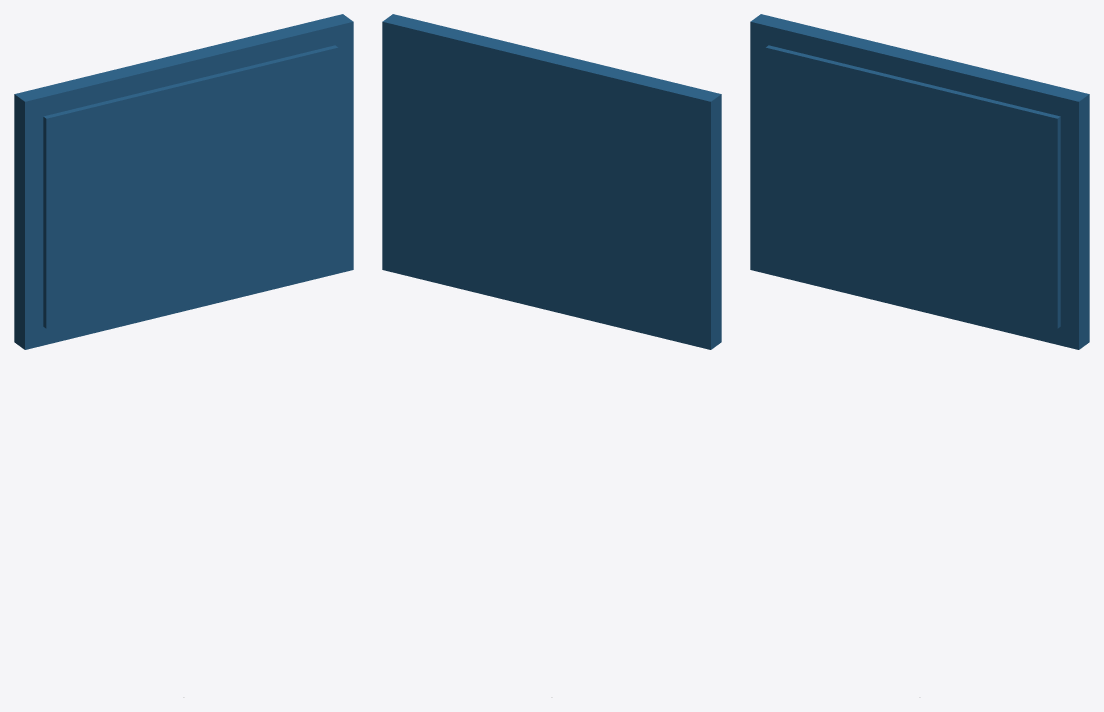
The model's file is furniture-painting.glb.
3 views of the same model, side by side, from view 1: azimuth 30°, elevation 25°; view 2: azimuth 150°, elevation 25°; view 3: azimuth 330°, elevation 25° (orthographic).
Parts seen in each view (by area): view 1: painting_canvas, painting_frame; view 2: painting_frame; view 3: painting_canvas, painting_frame.
Part boxes in pixels (x1,y1,x2,y2): painting_canvas: (43,45,338,328); painting_frame: (14,14,353,349); painting_frame: (382,14,721,349); painting_canvas: (765,45,1060,328); painting_frame: (750,14,1089,349).
Size of the model in its own units: 0.9 by 1.68 by 0.065.
